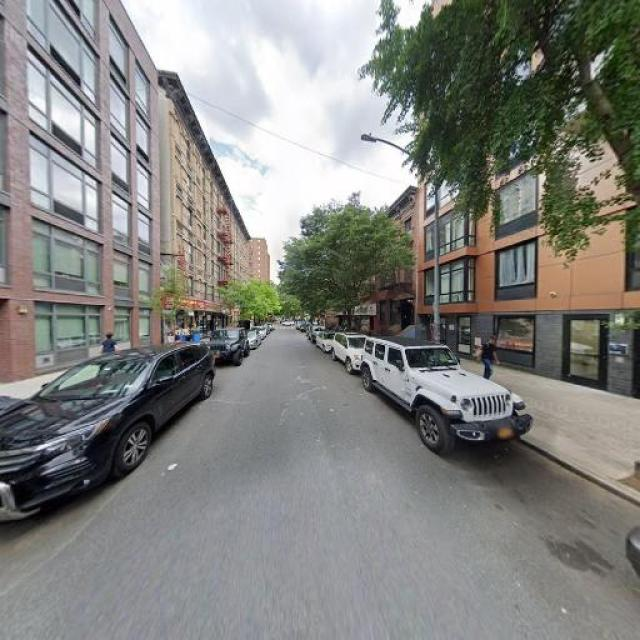Building: (419, 1, 640, 404), (1, 1, 162, 385)
